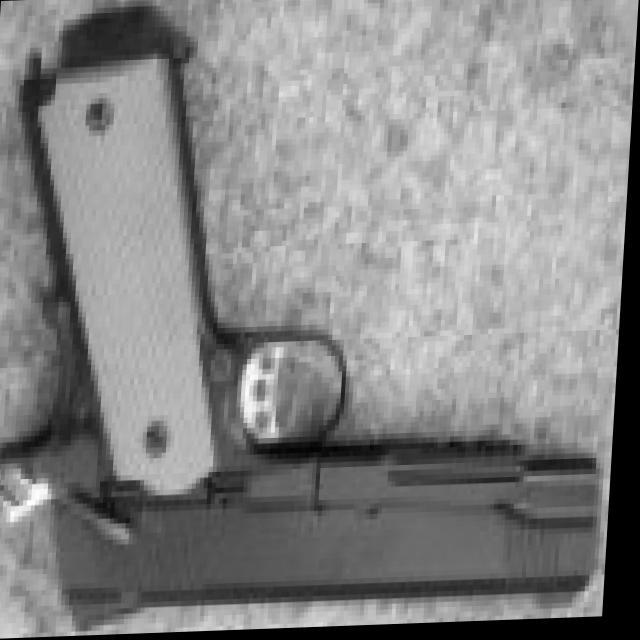handgun: (0, 19, 630, 623)
